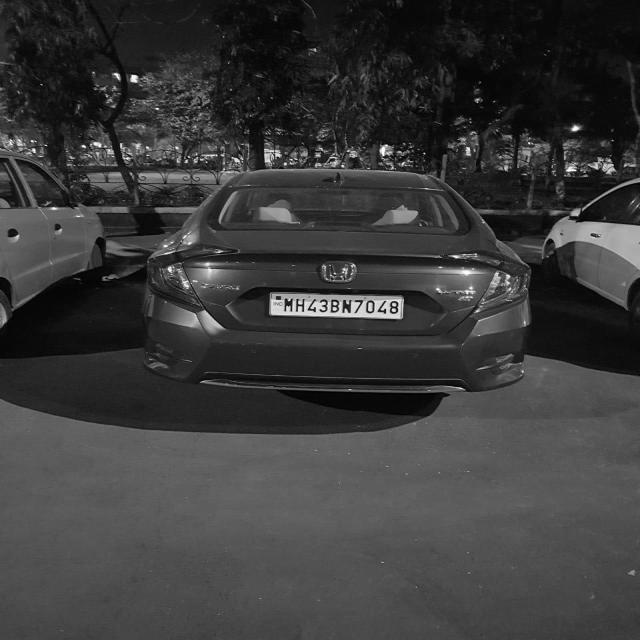car: (134, 162, 544, 412)
license-plate: (270, 285, 410, 327)
